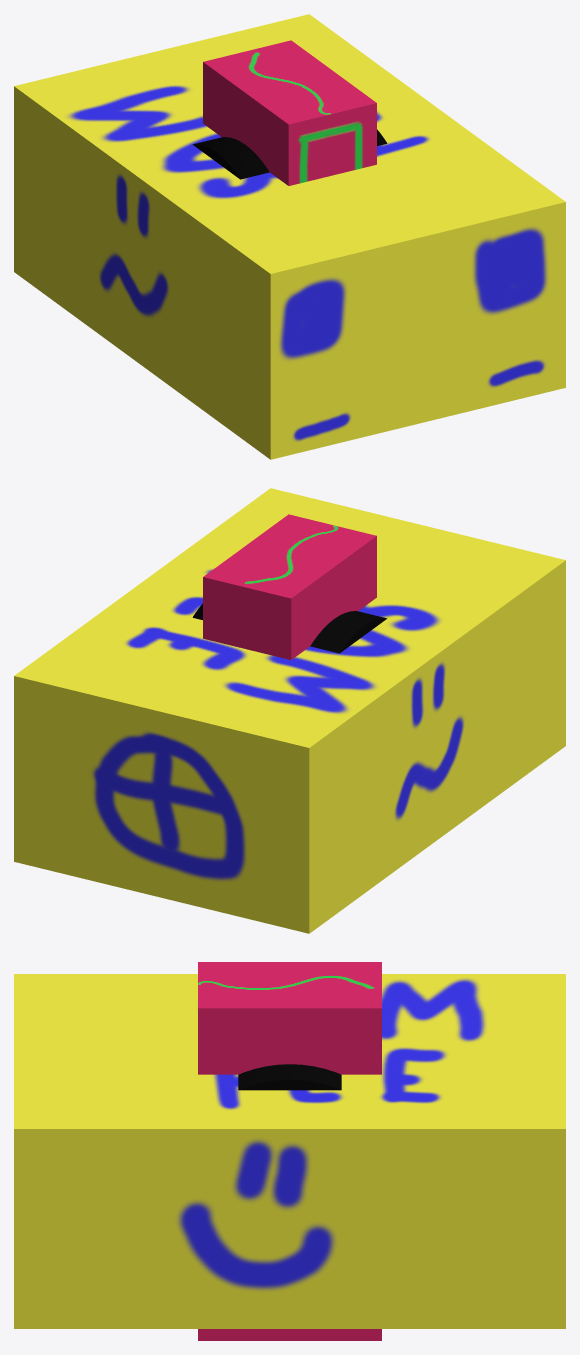
The model's file is sample.obj.
3 views of the same model, one above another, from view 1: azimuth 30°, elevation 25°; view 2: azimuth 150°, elevation 25°; view 3: azimuth 270°, elevation 25° (orthographic). The views are drawn at different scales.
Parts seen in each view (by area): view 1: c_Cube, d_Cube.001, b_Cylinder; view 2: c_Cube, d_Cube.001, b_Cylinder; view 3: c_Cube, d_Cube.001, b_Cylinder.
Part boxes in pixels (x1=…): c_Cube: x1=14, y1=14, x2=565, y2=459; d_Cube.001: x1=203, y1=40, x2=376, y2=185; b_Cylinder: x1=192, y1=129, x2=387, y2=179; c_Cube: x1=14, y1=488, x2=565, y2=933; d_Cube.001: x1=203, y1=514, x2=376, y2=659; b_Cylinder: x1=192, y1=603, x2=385, y2=653; c_Cube: x1=14, y1=974, x2=565, y2=1328; d_Cube.001: x1=198, y1=962, x2=381, y2=1340; b_Cylinder: x1=238, y1=1064, x2=341, y2=1090.
Bounding box in the file's own units: 2 × 2 × 3.01.
Materials: 3 (2 with a texture image).
